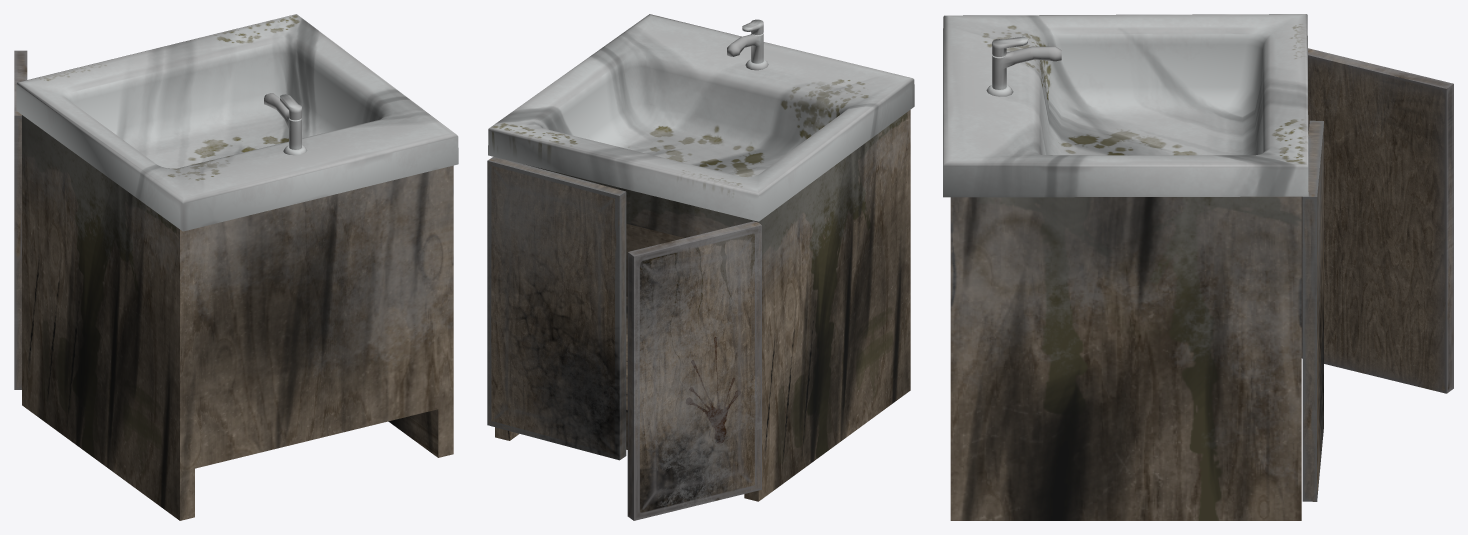
3 renders of one model, left to right at view 1: azimuth 30°, elevation 25°; view 2: azimuth 150°, elevation 25°; view 3: azimuth 270°, elevation 25°, orthographic. The views are drawn at different scales.
Parts seen in each view (by area): view 1: KitchenSink_Low, KitchenTable02Door02_Low.001; view 2: KitchenSink_Low, KitchenTable02Door01_Low.001, KitchenTable02Door02_Low.001; view 3: KitchenSink_Low, KitchenTable02Door02_Low.001, KitchenTable02Door01_Low.001.
Part boxes in pixels (x1,y1,x2,y2): KitchenSink_Low: (16,14,458,520); KitchenTable02Door02_Low.001: (14,50,27,389); KitchenSink_Low: (488,14,914,501); KitchenTable02Door01_Low.001: (487,157,626,460); KitchenTable02Door02_Low.001: (627,221,761,520); KitchenSink_Low: (943,14,1308,520); KitchenTable02Door02_Low.001: (1301,48,1453,393); KitchenTable02Door01_Low.001: (1302,120,1323,501).
Size of the model in its own units: 0.7383 by 0.9146 by 1.04.
Materials: 5 (5 with a texture image).
